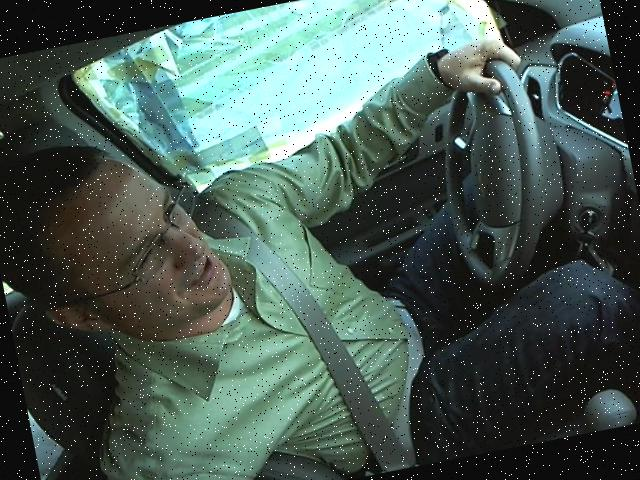c5 - Reaching Behind: (0, 11, 591, 465)
